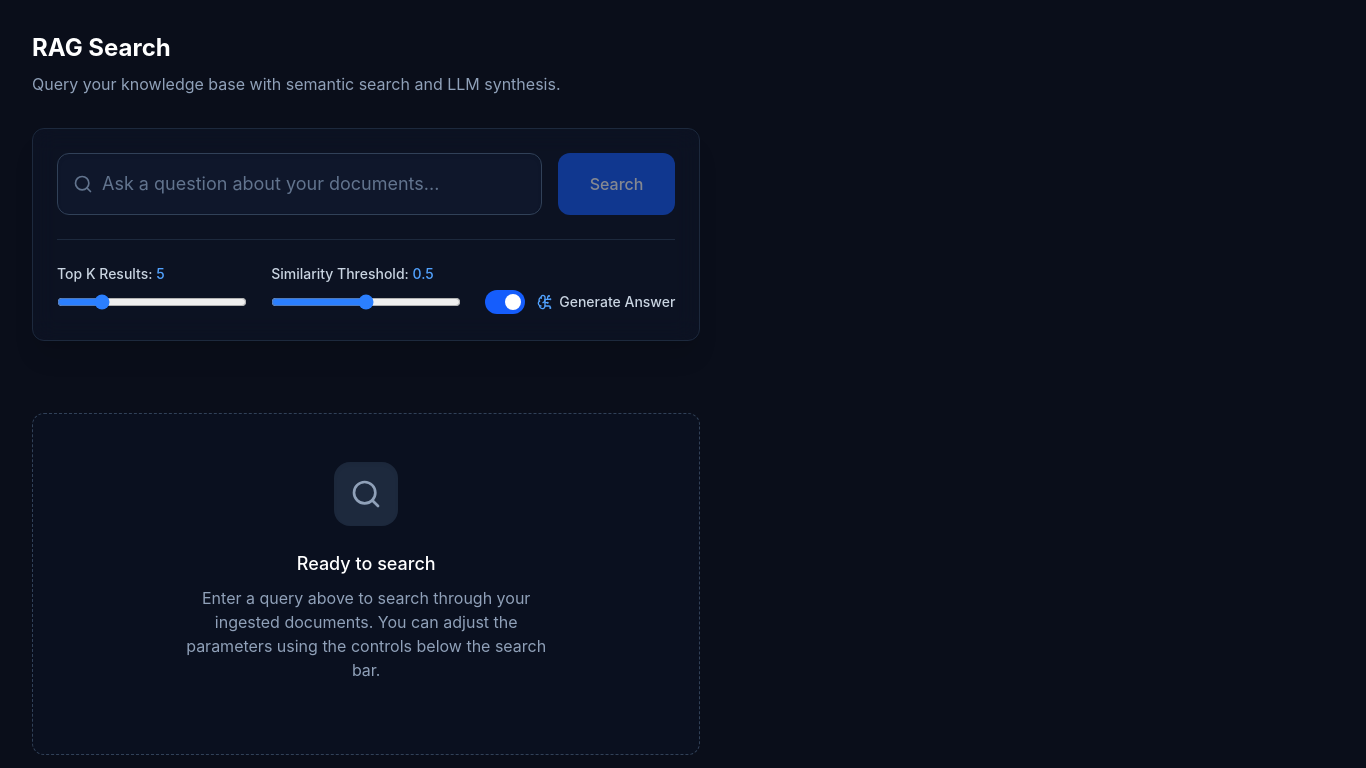
Test: SearchPage › shows an actionable connection state after a failed search
In the field with placeholder "Ask a question about your documents...": (299, 184) [57,153,542,215], type "test query"
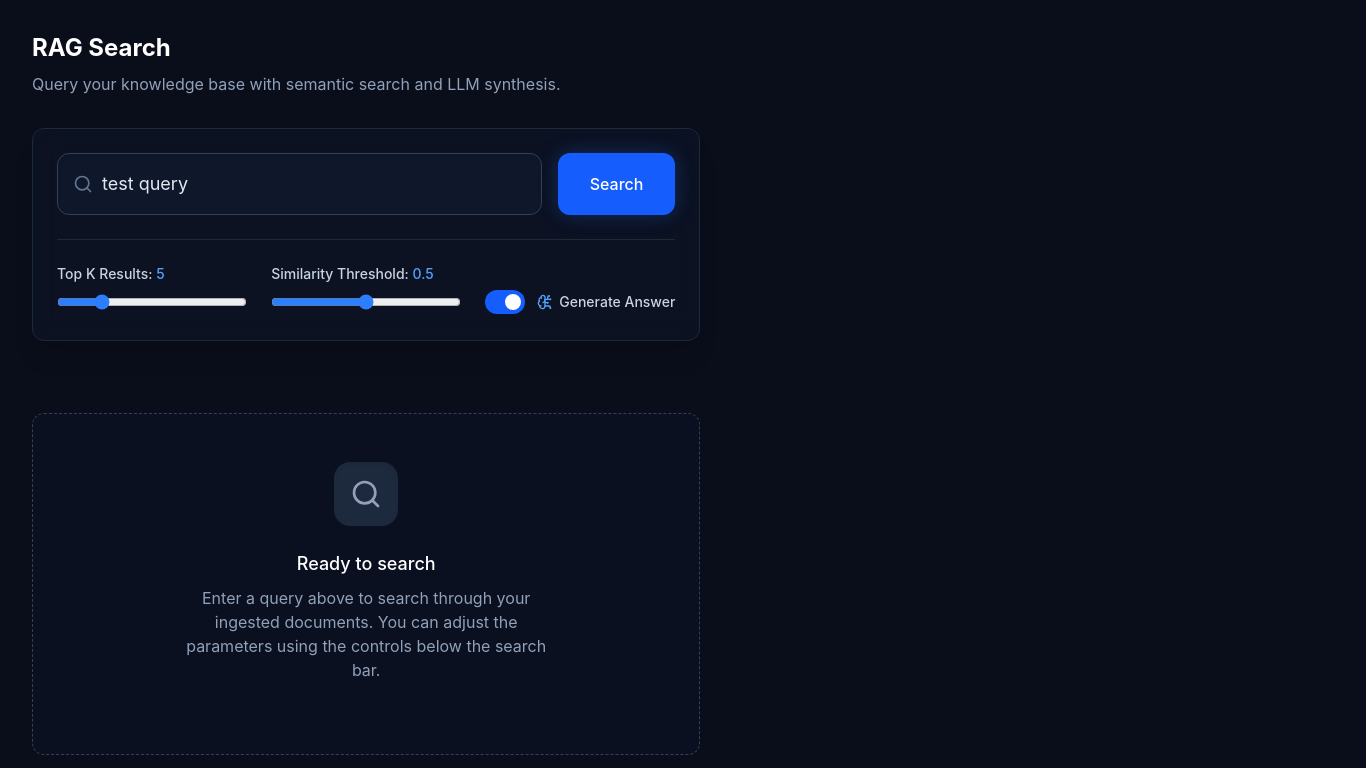
Click the button "Search": click(617, 184) [558,153,675,215]
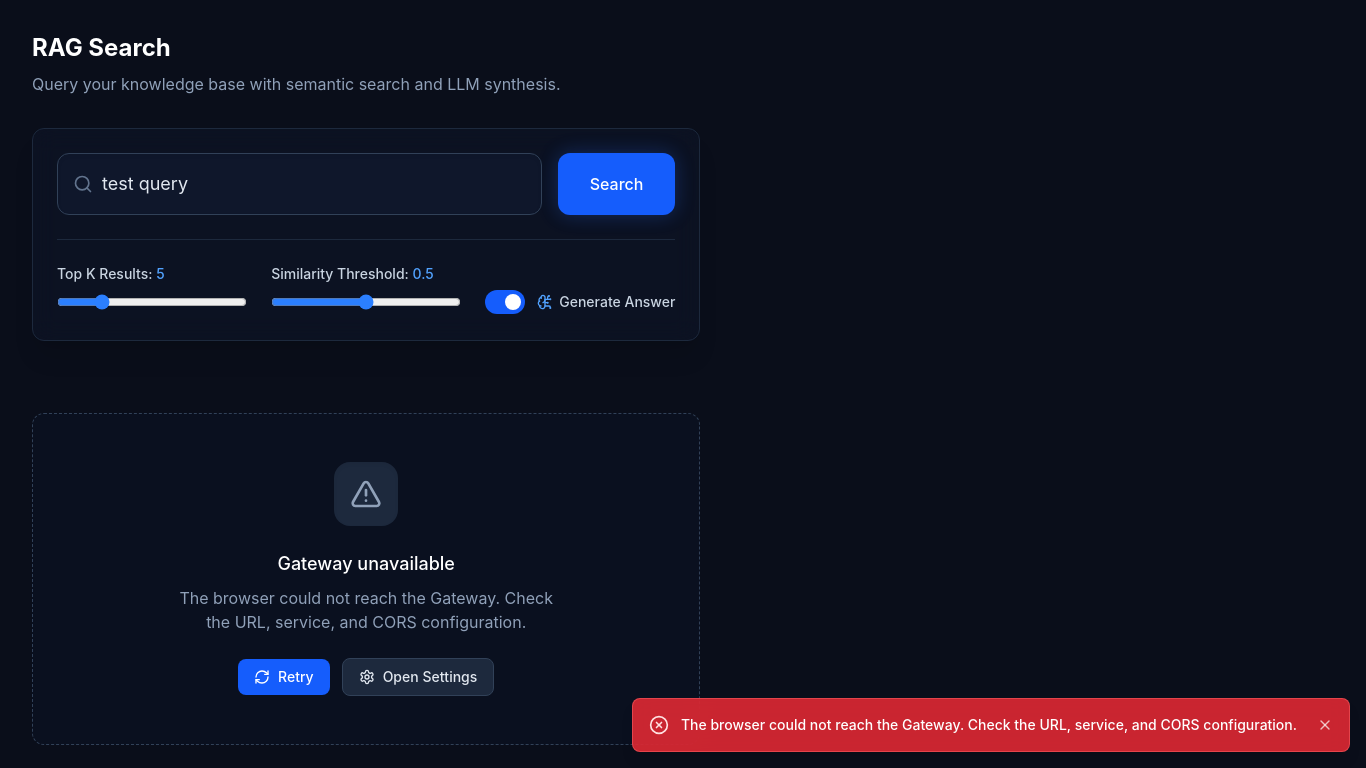
Result: the heading "Gateway unavailable" is shown at [277,553,455,574]
Result: the text "could not reach the Gateway" below "Gateway unavailable" is shown at [179,588,553,632]
Result: the heading "Ready to search" is gone
